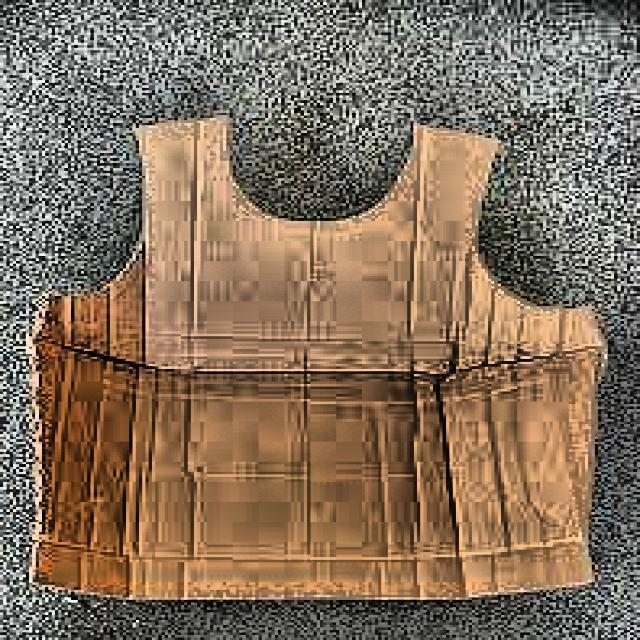cardboard: (26, 110, 608, 602)
